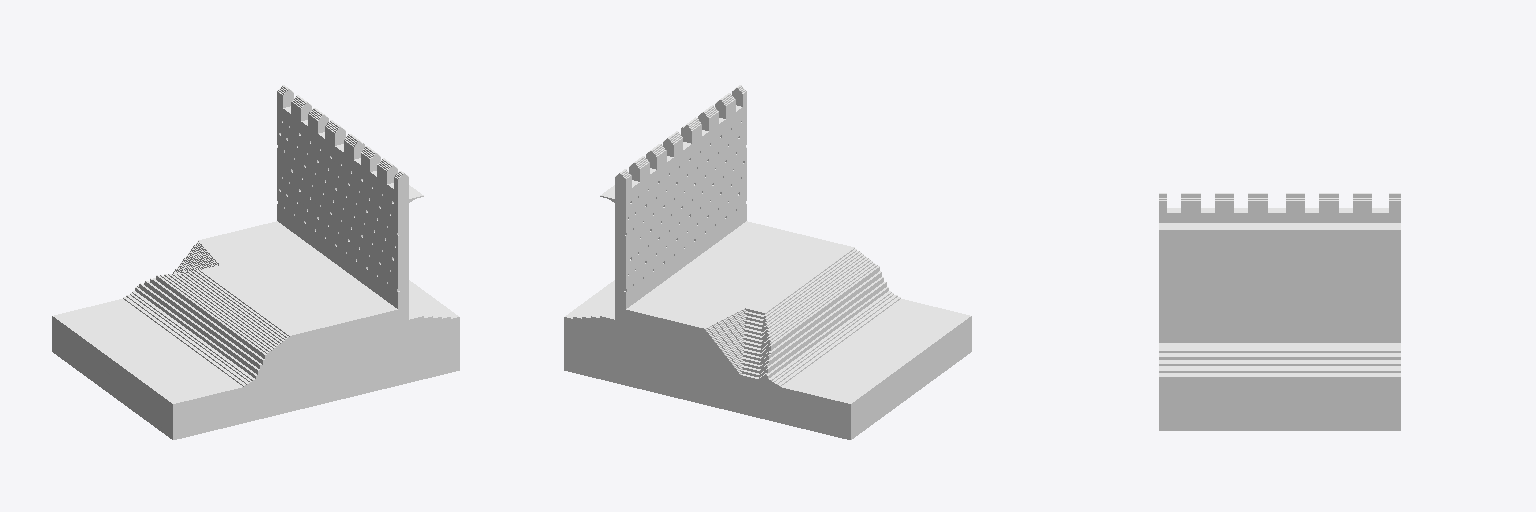
File: castelloVillafranca-24.obj
The picture shows the model from 3 angles: view 1: azimuth 30°, elevation 25°; view 2: azimuth 150°, elevation 25°; view 3: azimuth 270°, elevation 25°; orthographic projection.
Parts seen in each view (by area): view 1: object 1; view 2: object 1; view 3: object 1.
Part boxes in pixels (x1,y1,x2,y2): object 1: (52, 85, 459, 439); object 1: (564, 85, 971, 439); object 1: (1159, 193, 1400, 430).
Size of the model in its own units: 25.6 by 18 by 18.7.